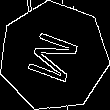M_E: (22, 26, 85, 87)
